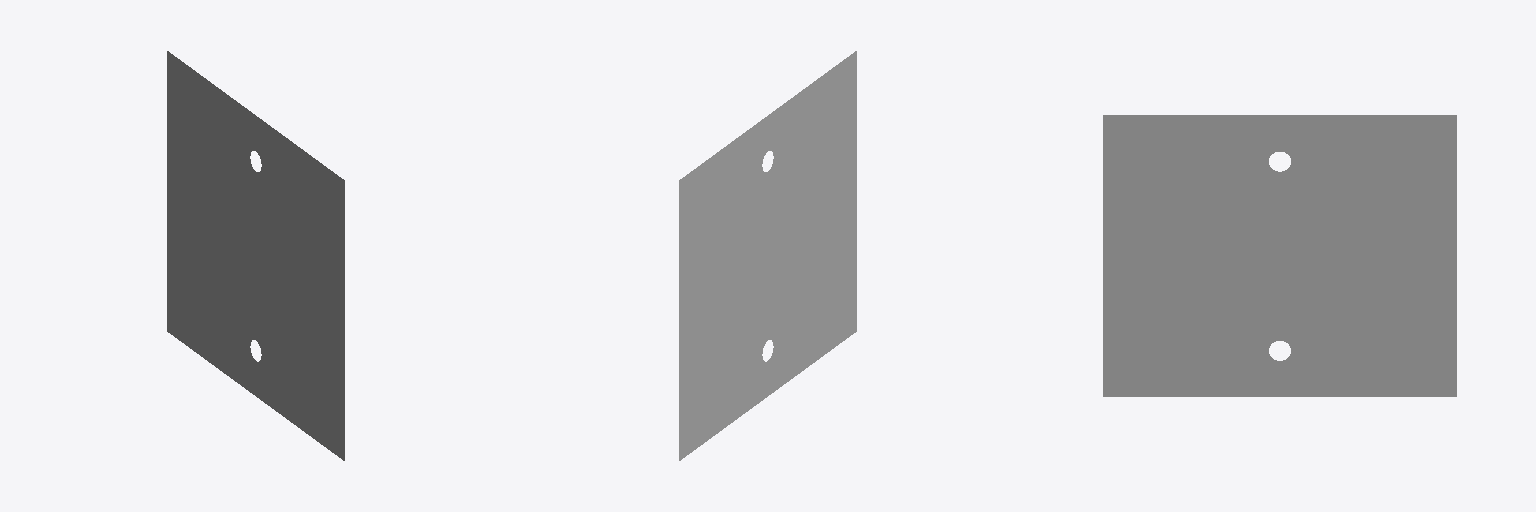
The model's file is arriba.obj.
The picture shows the model from 3 angles: view 1: azimuth 30°, elevation 25°; view 2: azimuth 150°, elevation 25°; view 3: azimuth 270°, elevation 25°; orthographic projection.
Visible parts, largest first — view 1: arriba_mesh7.001; view 2: arriba_mesh7.001; view 3: arriba_mesh7.001.
Boxes of the visible parts, box(x1,y1,x2,y2) form: arriba_mesh7.001: box(167, 51, 344, 460); arriba_mesh7.001: box(679, 51, 856, 460); arriba_mesh7.001: box(1103, 115, 1456, 396).
Bounding box in the file's own units: 0 × 0.14 × 0.16.